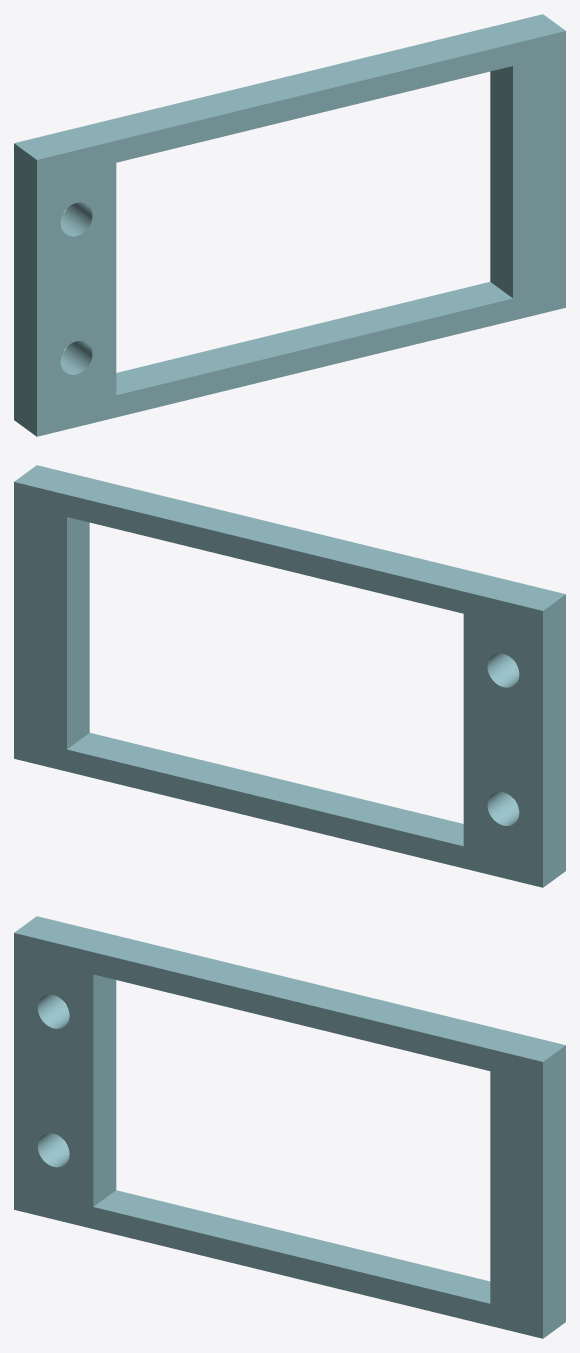
File: assembly.glb
The picture shows the model from 3 angles, top to bottom: view 1: azimuth 30°, elevation 25°; view 2: azimuth 150°, elevation 25°; view 3: azimuth 330°, elevation 25°; orthographic projection.
Parts seen in each view (by area): view 1: flexure_frame; view 2: flexure_frame; view 3: flexure_frame.
Part boxes in pixels (box(x1,y1,x2,y2)): flexure_frame: box(14, 14, 565, 436); flexure_frame: box(14, 465, 565, 887); flexure_frame: box(14, 916, 565, 1338).
Size of the model in its own units: 0.04 by 0.02 by 0.003.
